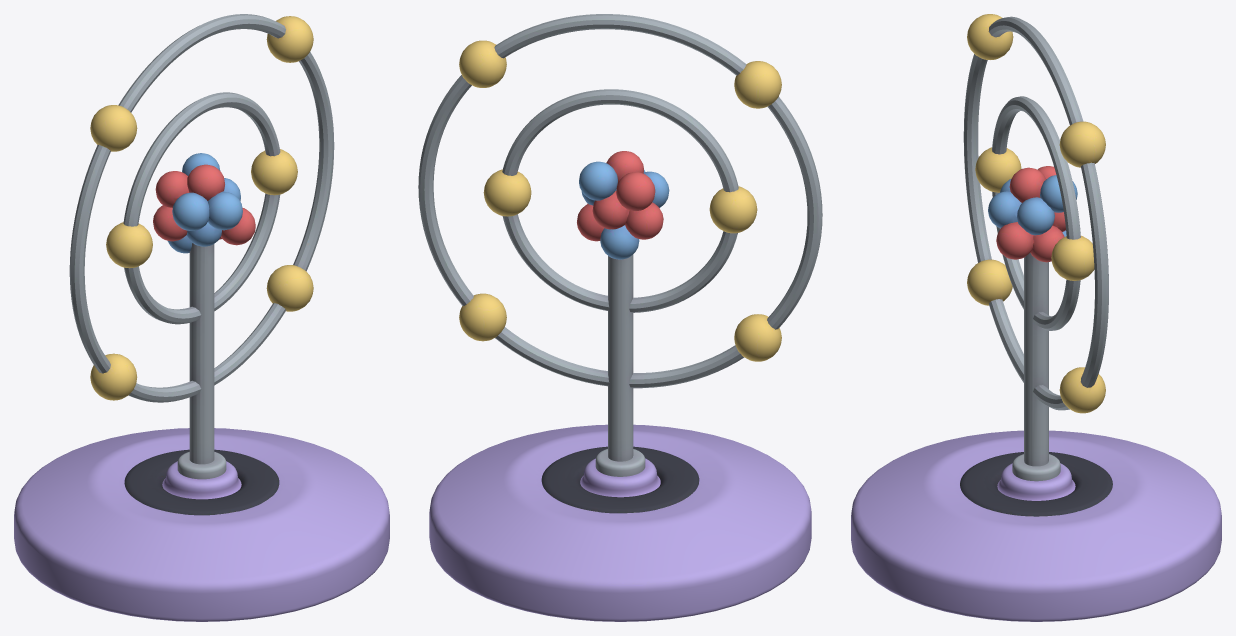
The model's file is atom-sphere-generic.glb.
3 views of the same model, side by side, from view 1: azimuth 30°, elevation 25°; view 2: azimuth 150°, elevation 25°; view 3: azimuth 270°, elevation 25° (orthographic). The views are drawn at different scales.
Visible parts, largest first — view 1: carbon-atom_body; view 2: carbon-atom_body; view 3: carbon-atom_body.
Boxes of the visible parts, x1,y1,x2,y2 form: carbon-atom_body: (14,14,389,621); carbon-atom_body: (418,14,822,621); carbon-atom_body: (851,14,1221,621).
Bounding box in the file's own units: 0.1213 × 0.1827 × 0.12.
Materials: 1 (1 with a texture image).
